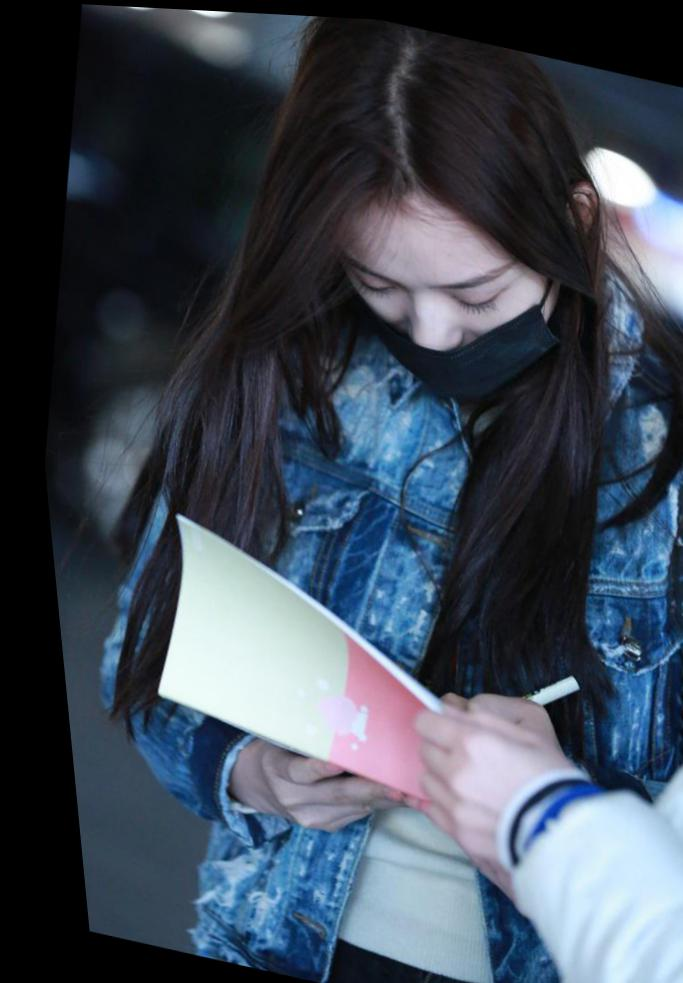WRONG: (311, 175, 574, 420)
